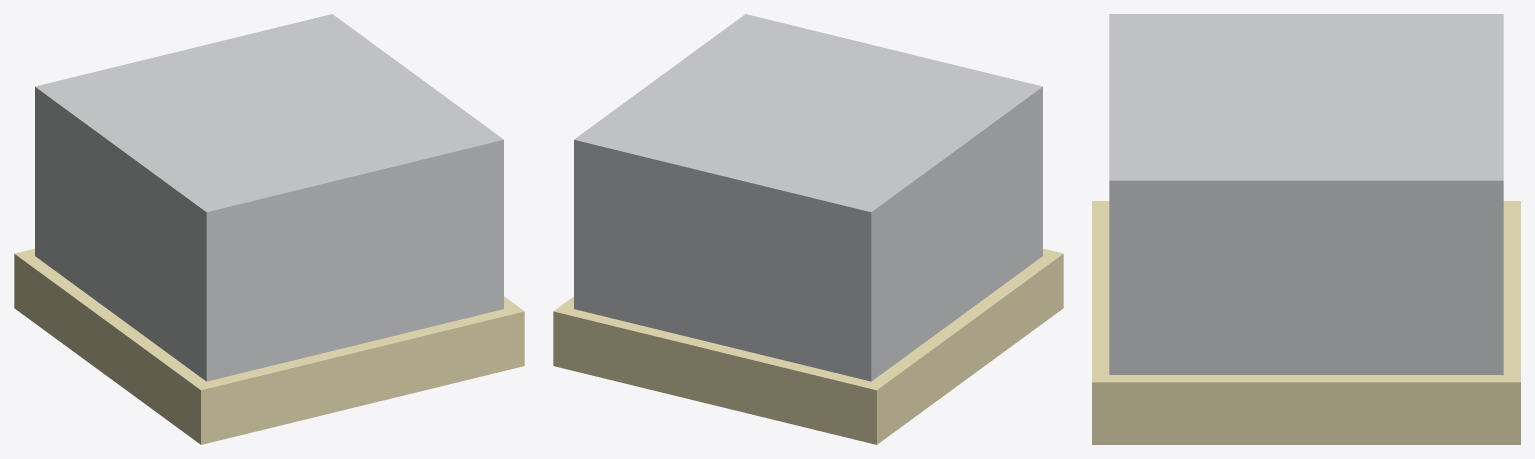
Rendered from rei_elfo_manga_inf.glb.
3 views of the same model, side by side, from view 1: azimuth 30°, elevation 25°; view 2: azimuth 150°, elevation 25°; view 3: azimuth 270°, elevation 25° (orthographic). The views are drawn at different scales.
Visible parts, largest first — view 1: rei_elfo_manga_inf; view 2: rei_elfo_manga_inf; view 3: rei_elfo_manga_inf.
Part boxes in pixels (<box>): rei_elfo_manga_inf: <box>14,14,524,444</box>; rei_elfo_manga_inf: <box>553,14,1063,444</box>; rei_elfo_manga_inf: <box>1092,14,1520,444</box>.
Size of the model in its own units: 0.31 by 0.21 by 0.31.
